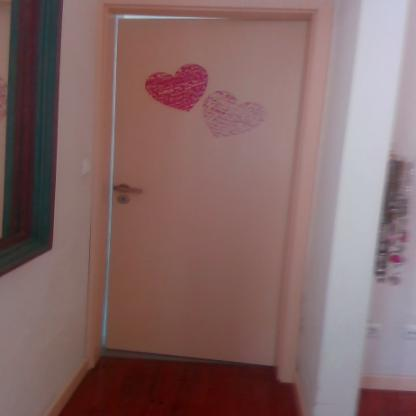door: (109, 19, 281, 362)
lever: (112, 185, 148, 195)
